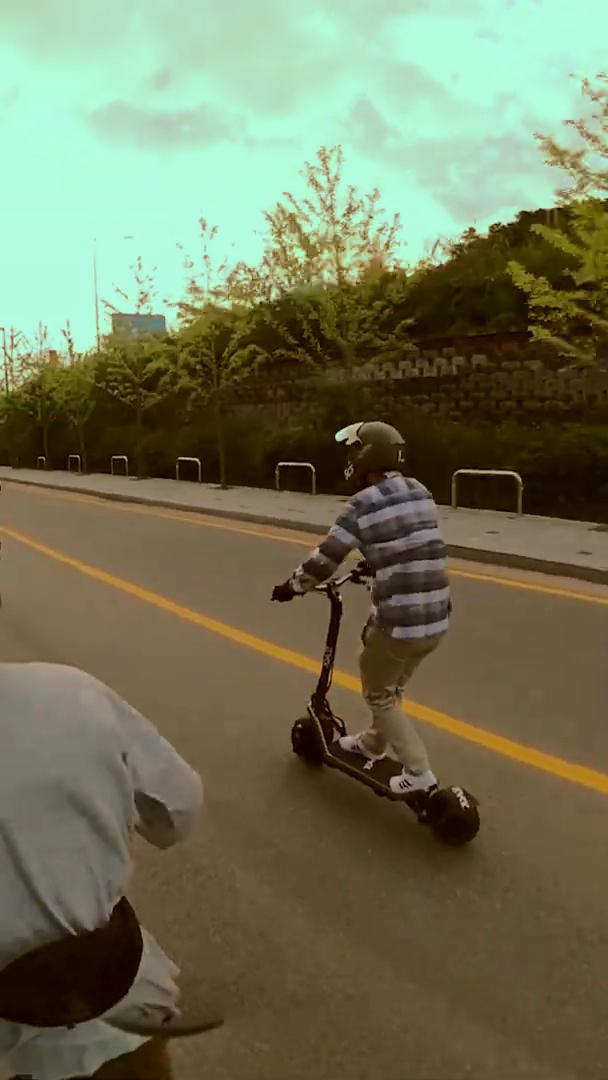helmet: (267, 413, 484, 856)
